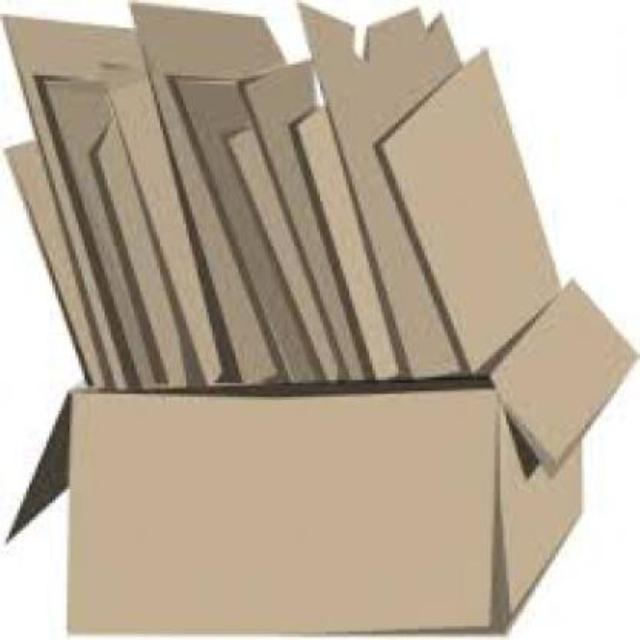cardboard_box: (6, 20, 618, 636)
